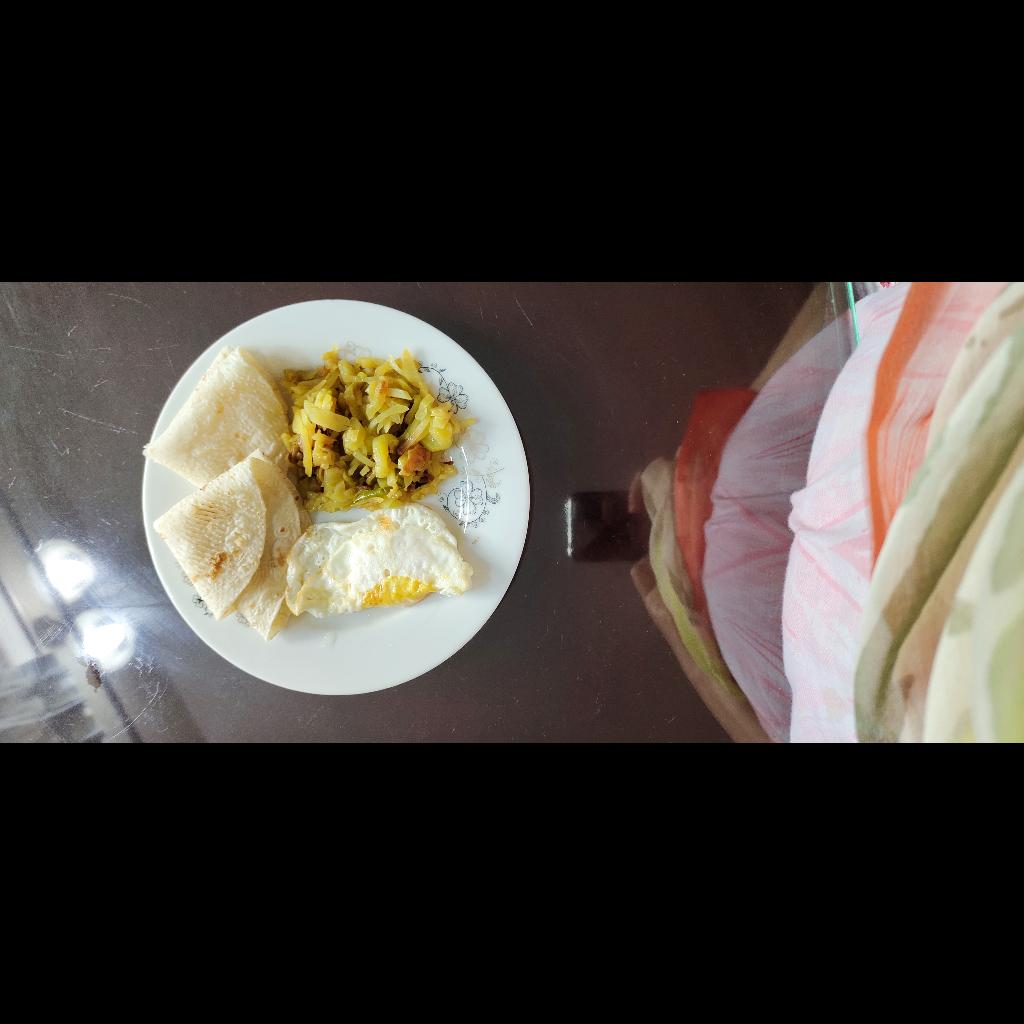egg-poached: (282, 498, 476, 618)
potato: (280, 346, 480, 513)
ruti: (144, 343, 310, 643)
